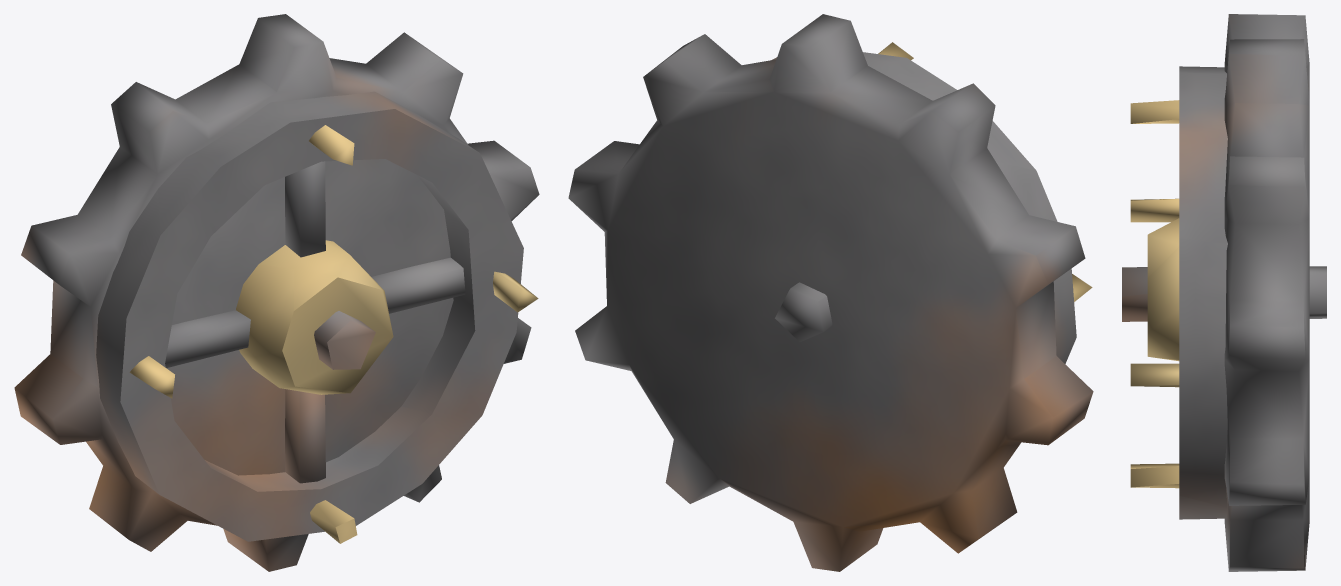
Rendered from gear_small_lod1.gltf.
3 renders of one model, left to right at view 1: azimuth 30°, elevation 25°; view 2: azimuth 150°, elevation 25°; view 3: azimuth 270°, elevation 25°, orthographic. The views are drawn at different scales.
Visible parts, largest first — view 1: gear_small_LOD1; view 2: gear_small_LOD1; view 3: gear_small_LOD1.
Part boxes in pixels (left/top/right/bottom): gear_small_LOD1: left=14, top=14, right=539, bottom=571; gear_small_LOD1: left=568, top=14, right=1093, bottom=571; gear_small_LOD1: left=1122, top=14, right=1326, bottom=571.
Size of the model in its own units: 0.5785 by 0.5917 by 0.216.
Materials: 1 (1 with a texture image).
